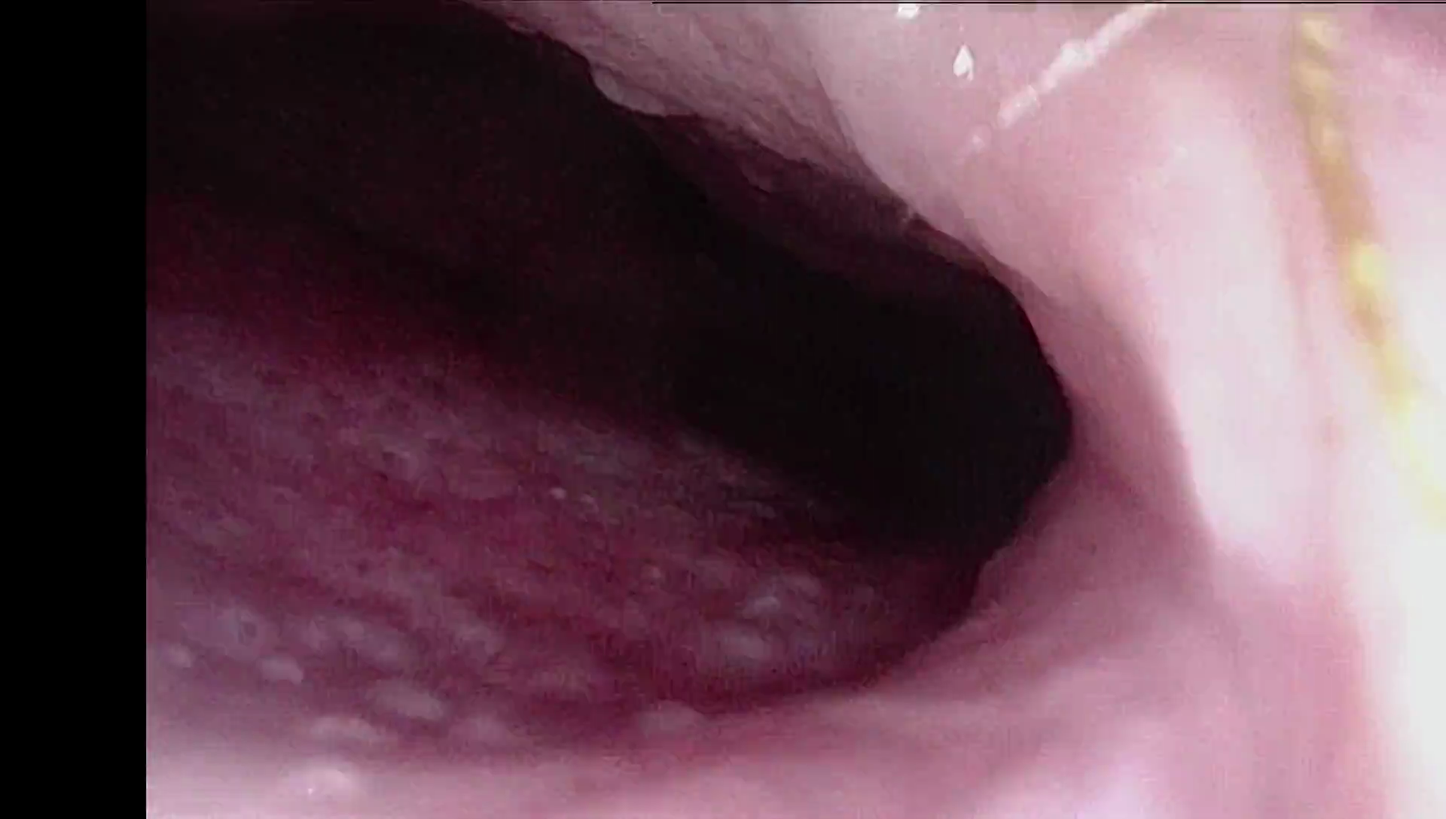close_wall: (1102, 8, 1446, 819)
next: (617, 187, 1095, 578)
